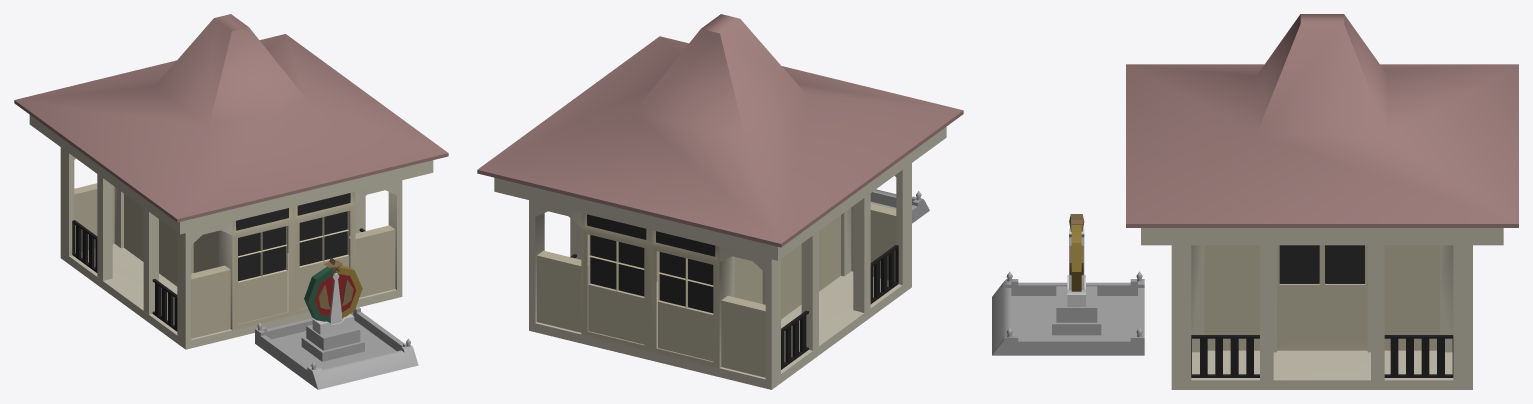
The model's file is Komplek_Kepatihan.fbx.
3 views of the same model, side by side, from view 1: azimuth 30°, elevation 25°; view 2: azimuth 150°, elevation 25°; view 3: azimuth 270°, elevation 25° (orthographic). The views are drawn at different scales.
Parts seen in each view (by area): view 1: Dewan Kerajinan Nasional DIY; view 2: Dewan Kerajinan Nasional DIY; view 3: Dewan Kerajinan Nasional DIY.
Part boxes in pixels (box(x1,y1,x2,y2)): Dewan Kerajinan Nasional DIY: box(14, 14, 448, 389); Dewan Kerajinan Nasional DIY: box(477, 14, 963, 389); Dewan Kerajinan Nasional DIY: box(992, 14, 1518, 389).
Bounding box in the file's own units: 378 × 339 × 527.
1 material, 1 textured.
